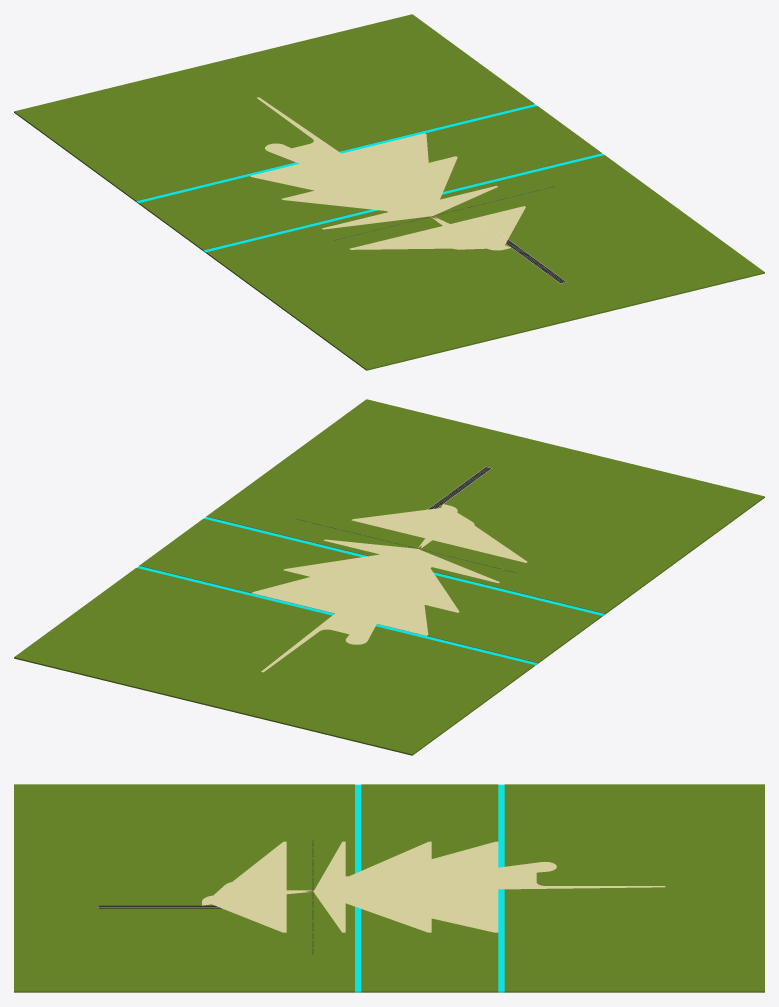
Rendered from 30.06_yol_1.fbx.
3 renders of one model, top to bottom at view 1: azimuth 30°, elevation 25°; view 2: azimuth 150°, elevation 25°; view 3: azimuth 270°, elevation 25°, orthographic. The views are drawn at different scales.
Parts seen in each view (by area): view 1: 30.06_yol; view 2: 30.06_yol; view 3: 30.06_yol.
Part boxes in pixels (x1=…): 30.06_yol: x1=14, y1=14, x2=764, y2=370; 30.06_yol: x1=14, y1=399, x2=764, y2=755; 30.06_yol: x1=14, y1=784, x2=764, y2=992.
Bounding box in the file's own units: 11948 × 39.67 × 18312.
9 materials, 9 textured.
